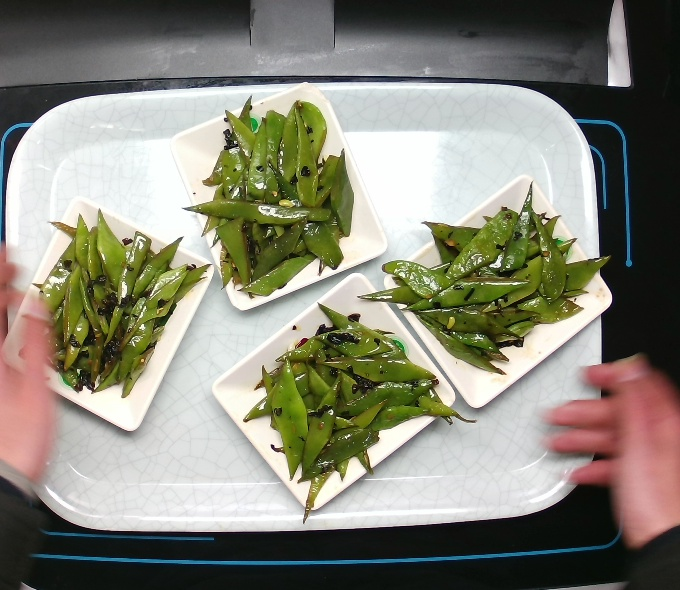wcq-ChaoSiJiDou: (387, 199, 599, 378), (242, 311, 444, 489), (196, 100, 358, 299), (37, 212, 202, 401)
